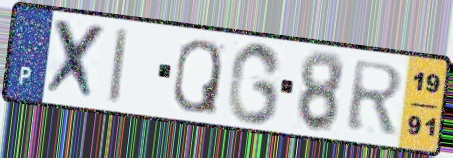8: (295, 47, 346, 135)
G: (224, 39, 285, 127)
I: (106, 25, 132, 107)
Q: (170, 37, 224, 118)
R: (344, 58, 407, 137)
X: (40, 16, 109, 105)
